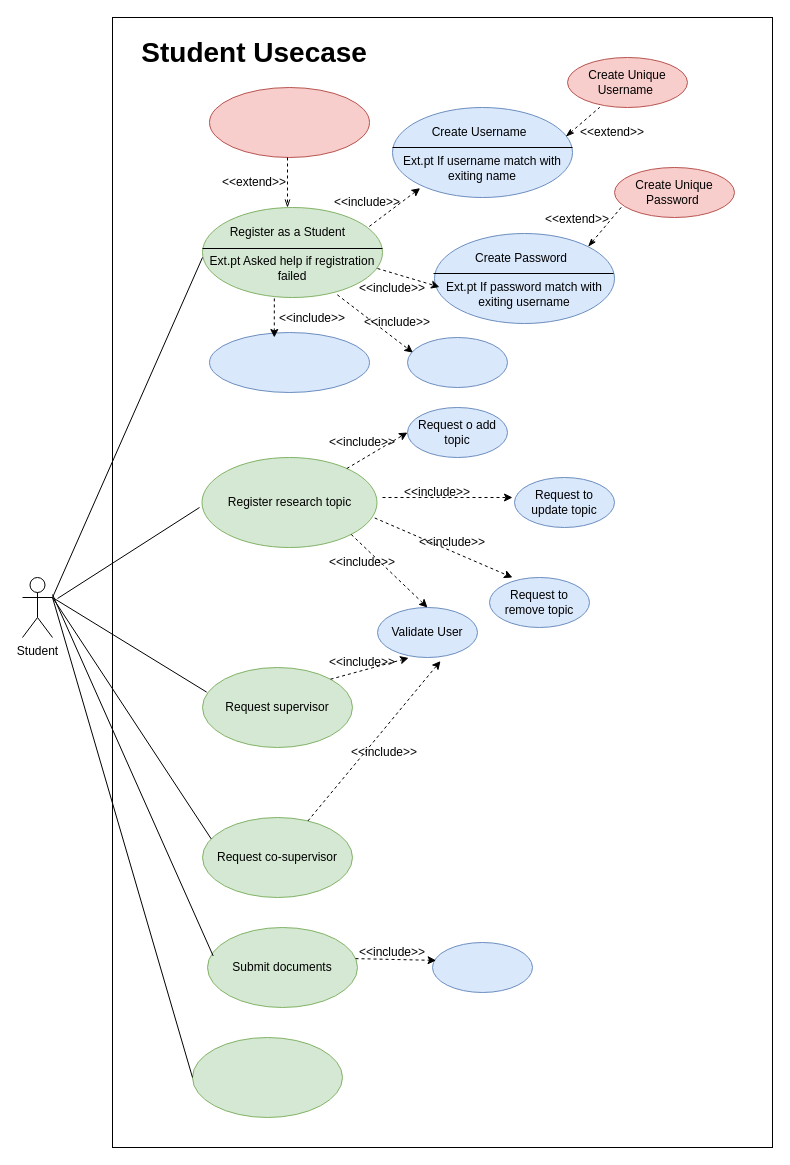
The diagram is 790 pixels wide and 1165 high, and some of its shapes have lost their labels. The shapes that lost their labels are listed below. From the top down, each one's box as (x1, y1, x2, y2) in pixels, then its label:
(208, 86, 370, 158): Get help on Registration
(208, 332, 370, 392): Agree with the Terms and conditions
(406, 336, 508, 388): Store Student details
(432, 942, 532, 992): Feedback
(192, 1036, 342, 1118): Download Templates
